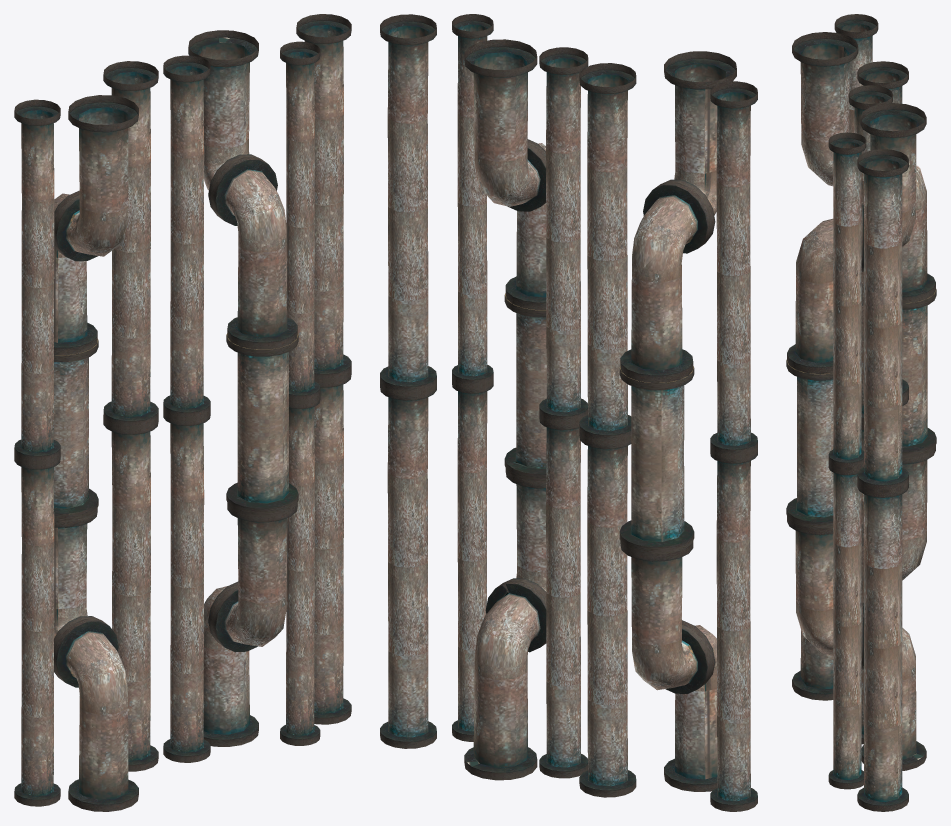
The model's file is Pipe_Combo3.obj.
3 views of the same model, side by side, from view 1: azimuth 30°, elevation 25°; view 2: azimuth 150°, elevation 25°; view 3: azimuth 270°, elevation 25° (orthographic). The views are drawn at different scales.
Parts seen in each view (by area): view 1: Pipe_Combo3; view 2: Pipe_Combo3; view 3: Pipe_Combo3.
Boxes of the visible parts, x1,y1,x2,y2 form: Pipe_Combo3: [14, 14, 351, 811]; Pipe_Combo3: [380, 14, 757, 811]; Pipe_Combo3: [786, 14, 936, 811].
Size of the model in its own units: 269 by 512 by 109.
1 material, 1 textured.
